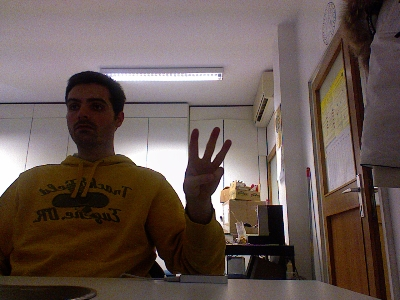三分: (181, 126, 232, 202)
